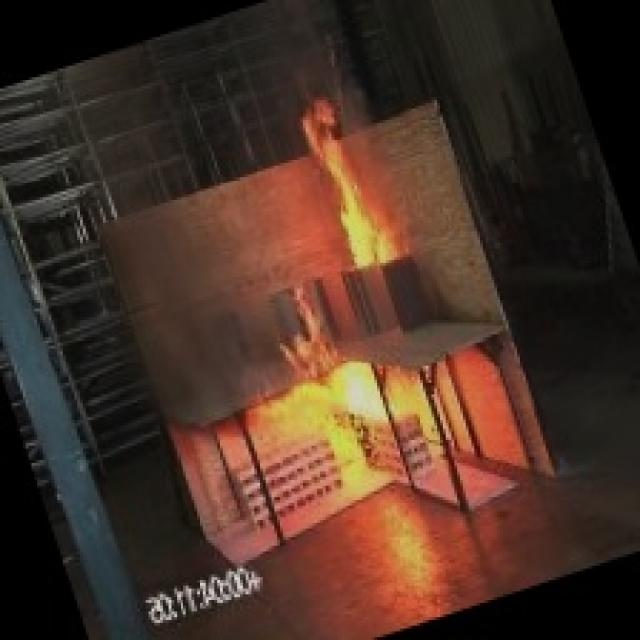fire: (240, 303, 454, 520), (266, 76, 440, 310)
